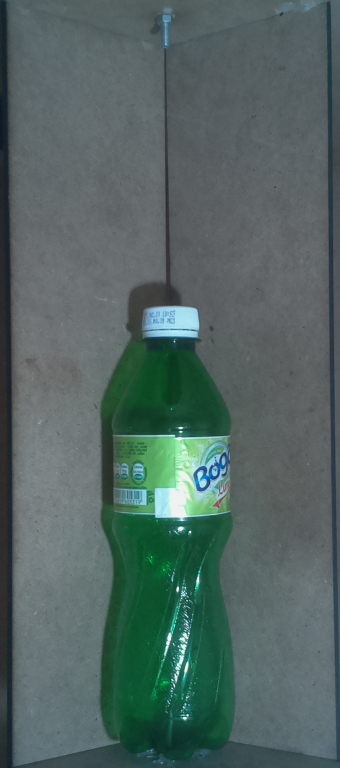Bouteille_0.5L: (98, 296, 247, 762)
